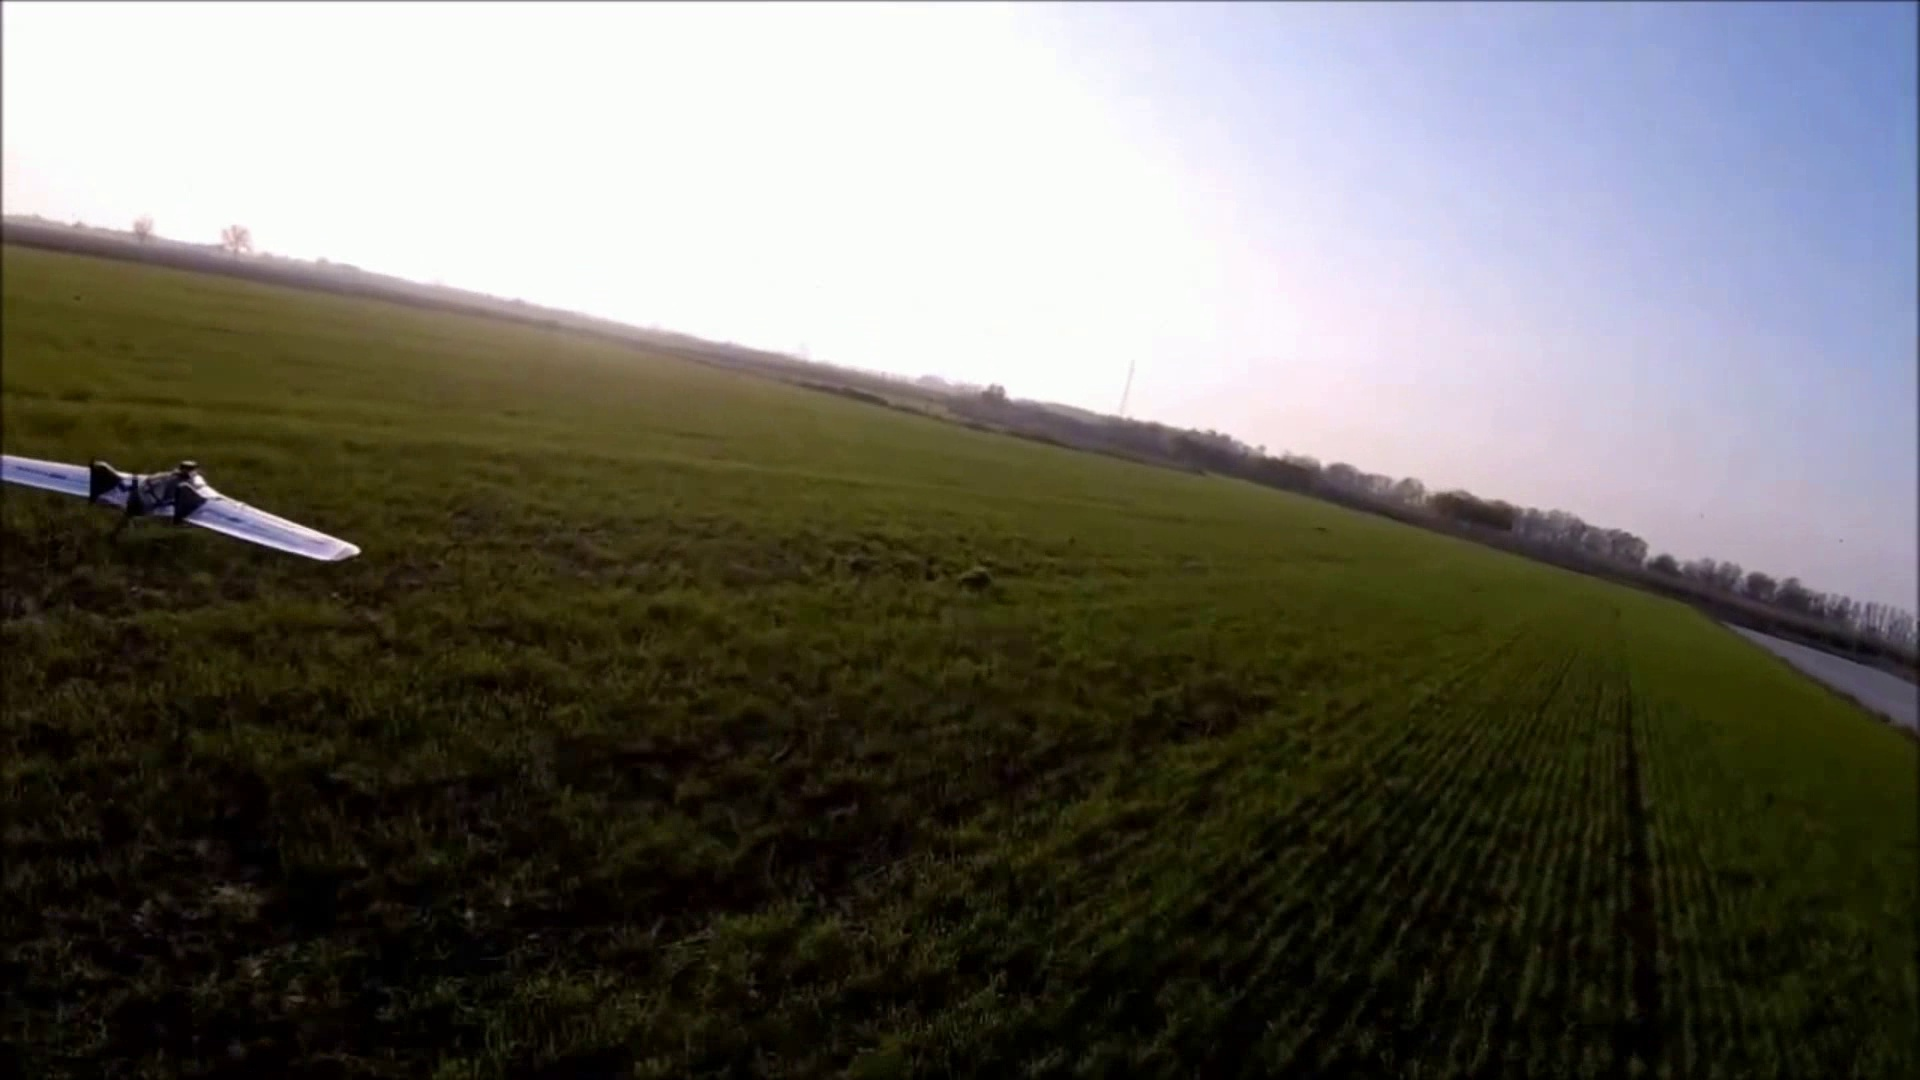airplane: (0, 456, 361, 566)
